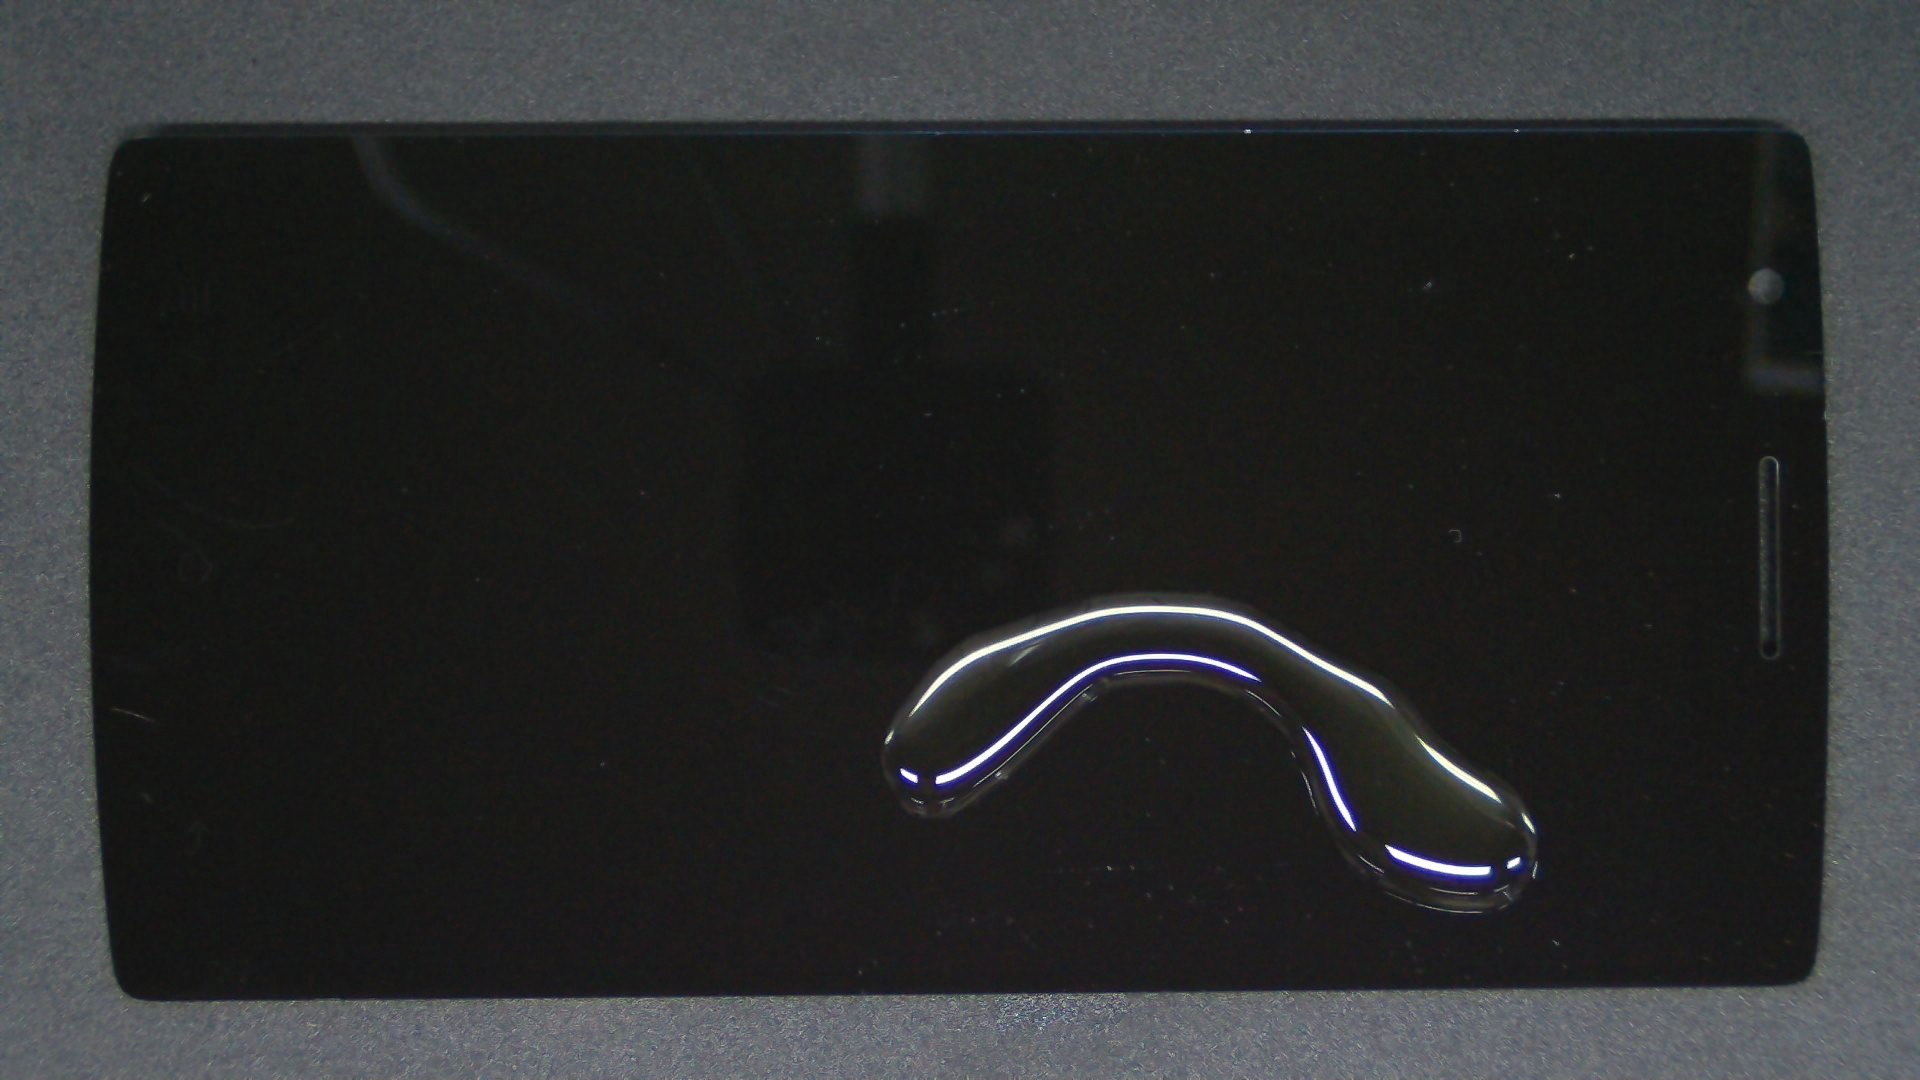oil: (572, 294, 1714, 884)
